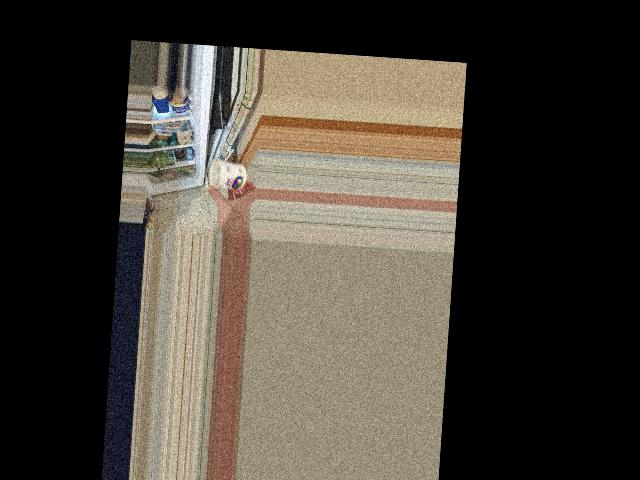cotage: (210, 160, 247, 193)
